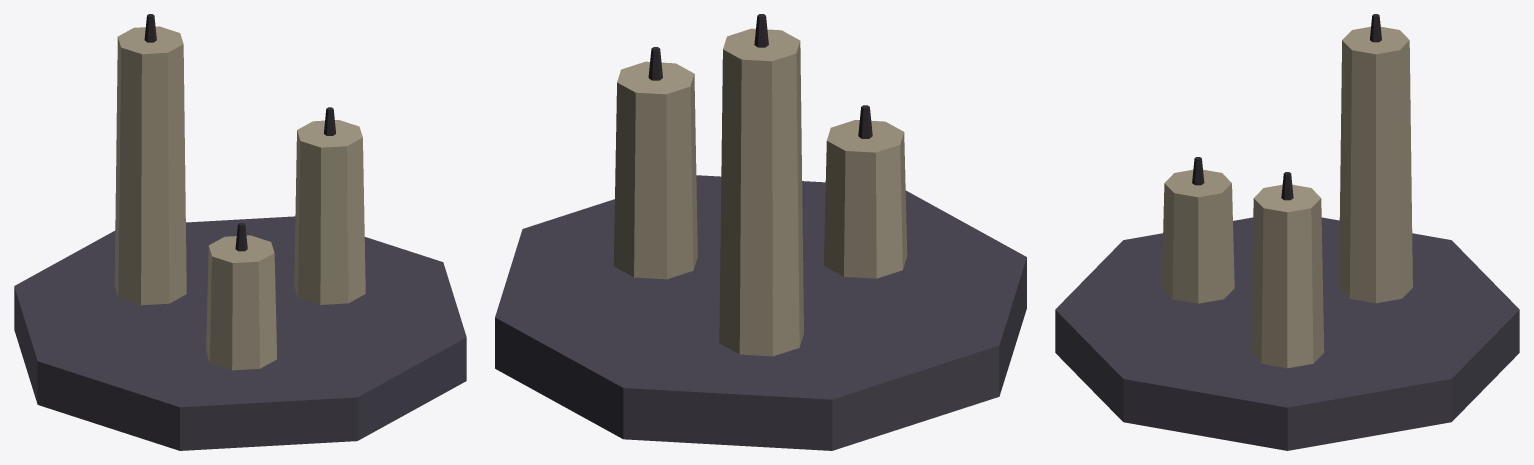
File: tower-candles-out.glb
3 views of the same model, side by side, from view 1: azimuth 30°, elevation 25°; view 2: azimuth 150°, elevation 25°; view 3: azimuth 270°, elevation 25° (orthographic). The views are drawn at different scales.
Visible parts, largest first — view 1: tower-candles-out; view 2: tower-candles-out; view 3: tower-candles-out.
Part boxes in pixels (left/top/right/bottom): tower-candles-out: left=14, top=14, right=466, bottom=450; tower-candles-out: left=495, top=14, right=1026, bottom=450; tower-candles-out: left=1055, top=14, right=1519, bottom=450.
Size of the model in its own units: 0.68 by 0.51 by 0.68.
